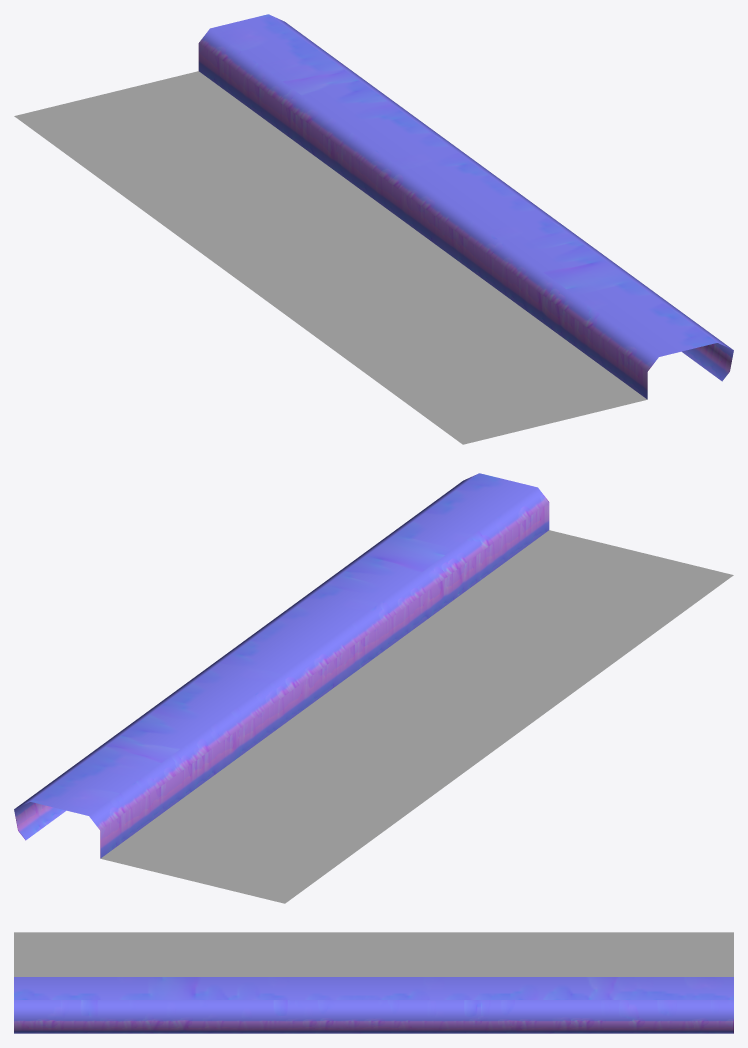
The model's file is sm_roof_01.fbx.
3 renders of one model, top to bottom at view 1: azimuth 30°, elevation 25°; view 2: azimuth 150°, elevation 25°; view 3: azimuth 270°, elevation 25°, orthographic. The views are drawn at different scales.
Parts seen in each view (by area): view 1: sm_roof_01; view 2: sm_roof_01; view 3: sm_roof_01.
Part boxes in pixels (x1,y1,x2,y2): sm_roof_01: (14,14,733,444); sm_roof_01: (14,473,733,903); sm_roof_01: (14,932,733,1033).
Size of the model in its own units: 105 by 14.7 by 300.
